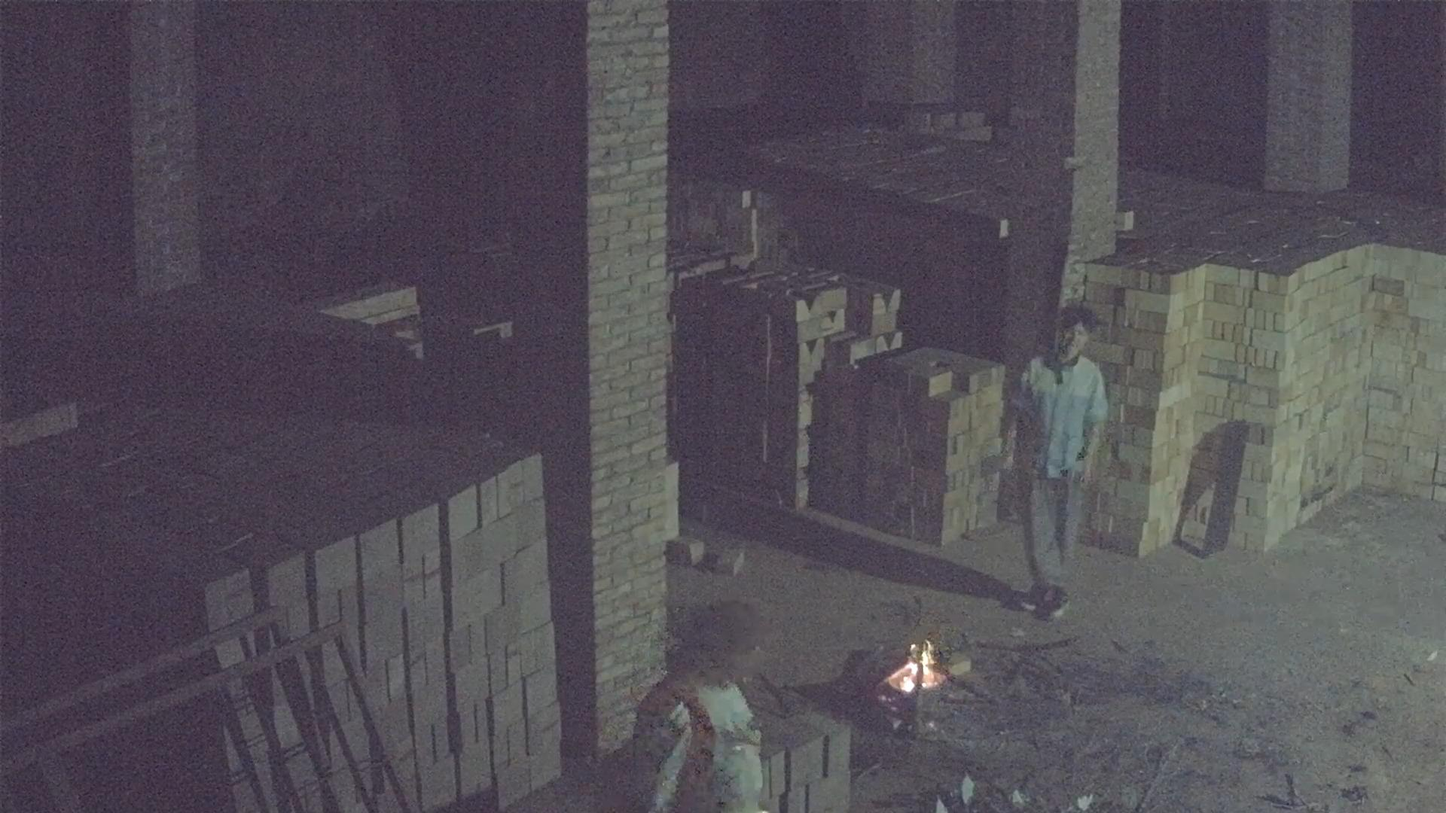fire: (898, 640, 949, 693)
